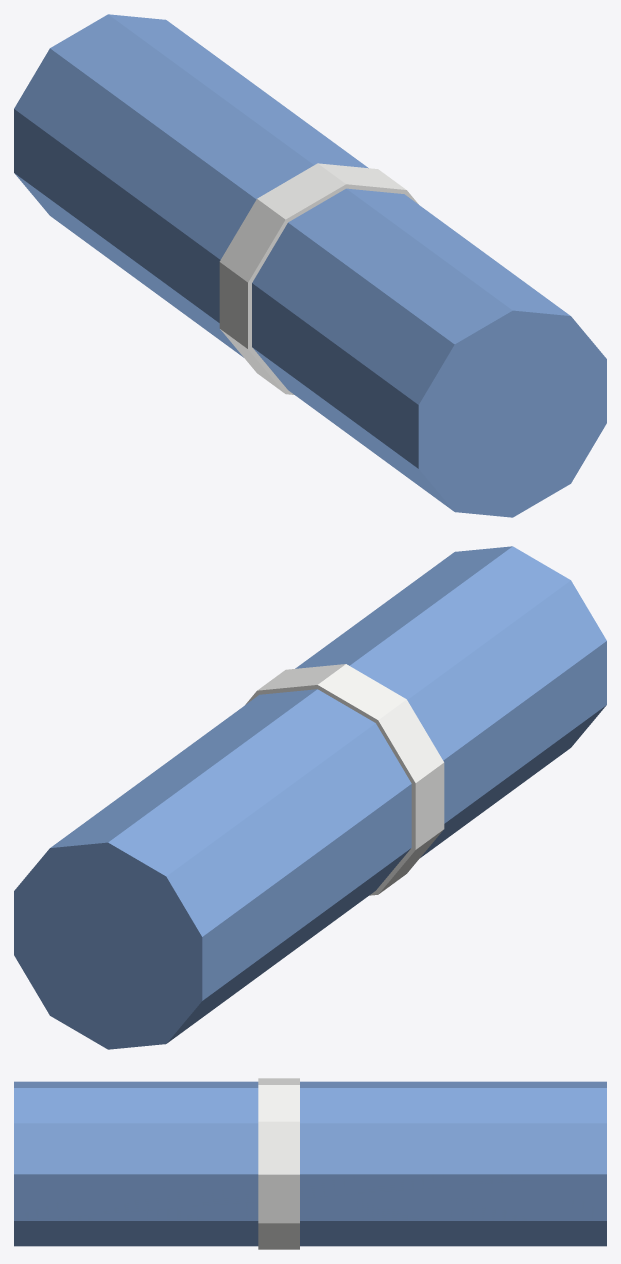
The model's file is plan_held.gltf.
The picture shows the model from 3 angles, top to bottom: view 1: azimuth 30°, elevation 25°; view 2: azimuth 150°, elevation 25°; view 3: azimuth 270°, elevation 25°; orthographic projection. The views are drawn at different scales.
Visible parts, largest first — view 1: blueprints_plan_held; view 2: blueprints_plan_held; view 3: blueprints_plan_held.
Part boxes in pixels (x1,y1,x2,y2): blueprints_plan_held: (14, 14, 606, 517); blueprints_plan_held: (14, 546, 606, 1049); blueprints_plan_held: (14, 1078, 606, 1249).
Bounding box in the file's own units: 0.0476 × 0.05 × 0.17.
